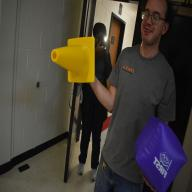cone: (50, 36, 96, 84)
cube: (134, 114, 188, 192)
